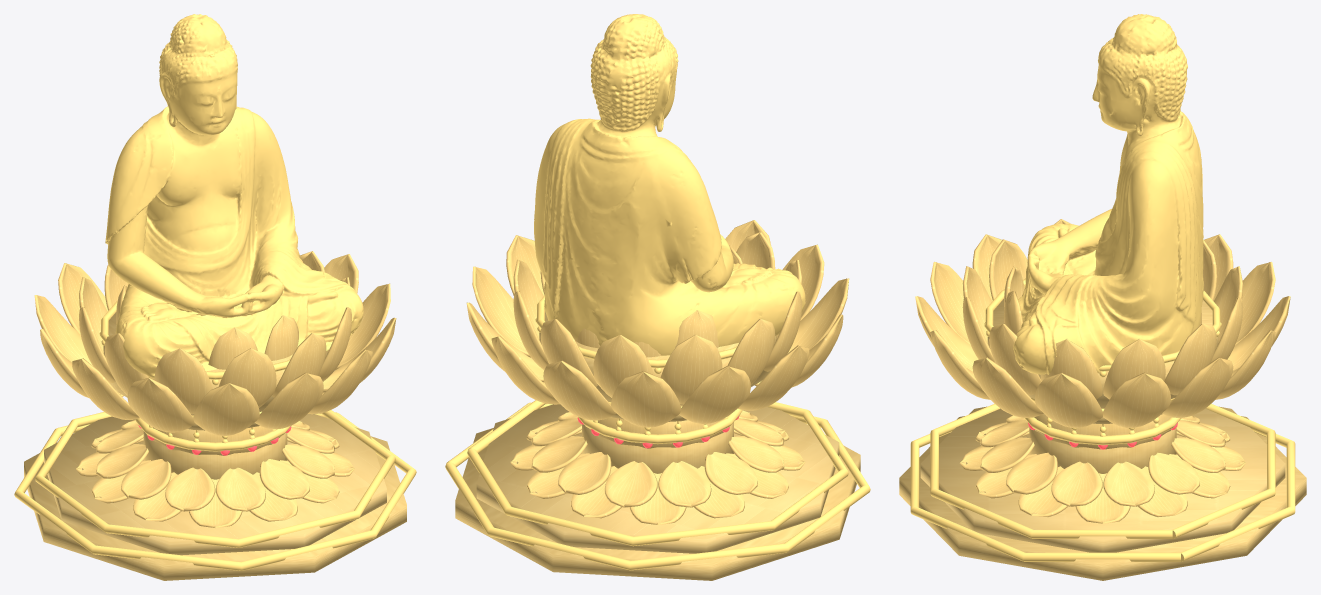
The model's file is amida_full.glb.
3 views of the same model, side by side, from view 1: azimuth 30°, elevation 25°; view 2: azimuth 150°, elevation 25°; view 3: azimuth 270°, elevation 25° (orthographic). The views are drawn at different scales.
Parts seen in each view (by area): view 1: Lotus_Pedestal, Amida_Body; view 2: Lotus_Pedestal, Amida_Body; view 3: Lotus_Pedestal, Amida_Body.
Part boxes in pixels (x1,y1,x2,y2): Lotus_Pedestal: [14, 249, 416, 580]; Amida_Body: [105, 14, 363, 379]; Lotus_Pedestal: [445, 220, 870, 580]; Amida_Body: [534, 14, 805, 355]; Lotus_Pedestal: [899, 219, 1306, 580]; Amida_Body: [1013, 14, 1203, 375].
Bounding box in the file's own units: 2.28 × 2.96 × 2.28.
12 materials, 4 textured.
